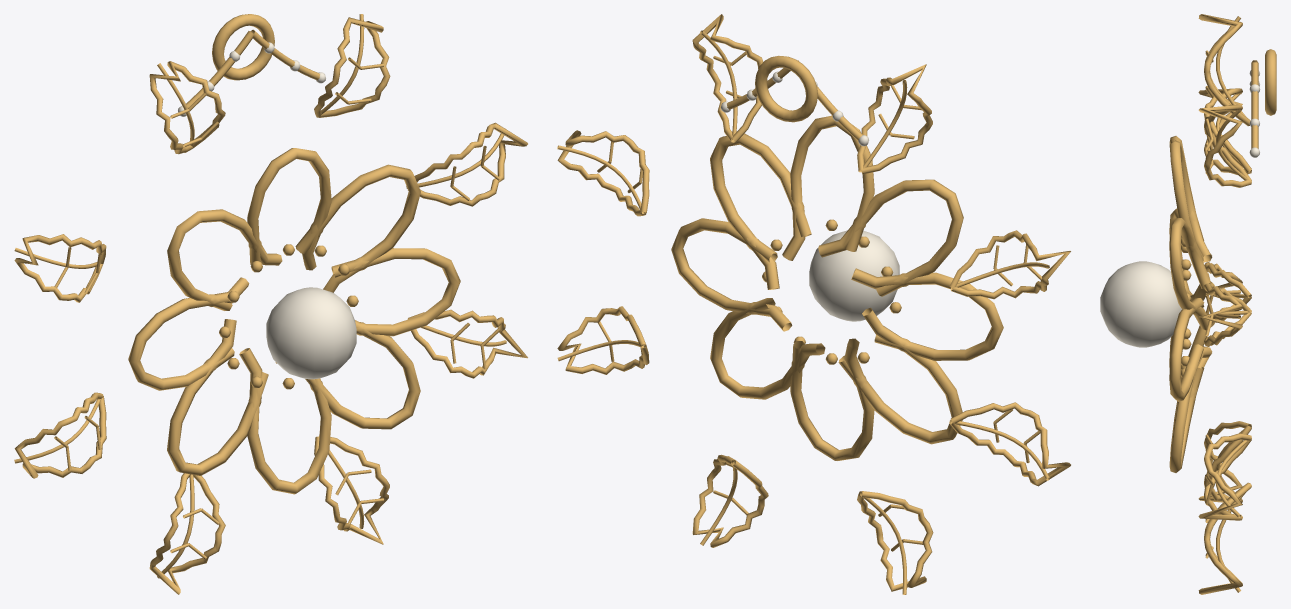
The model's file is pendant.glb.
3 views of the same model, side by side, from view 1: azimuth 30°, elevation 25°; view 2: azimuth 150°, elevation 25°; view 3: azimuth 270°, elevation 25° (orthographic). The views are drawn at different scales.
Parts seen in each view (by area): view 1: pendant; view 2: pendant; view 3: pendant.
Part boxes in pixels (left/top/right/bottom): pendant: left=14, top=14, right=527, bottom=594; pendant: left=557, top=14, right=1070, bottom=594; pendant: left=1100, top=14, right=1276, bottom=594.
Size of the model in its own units: 0.1008 by 0.1027 by 0.0331.
